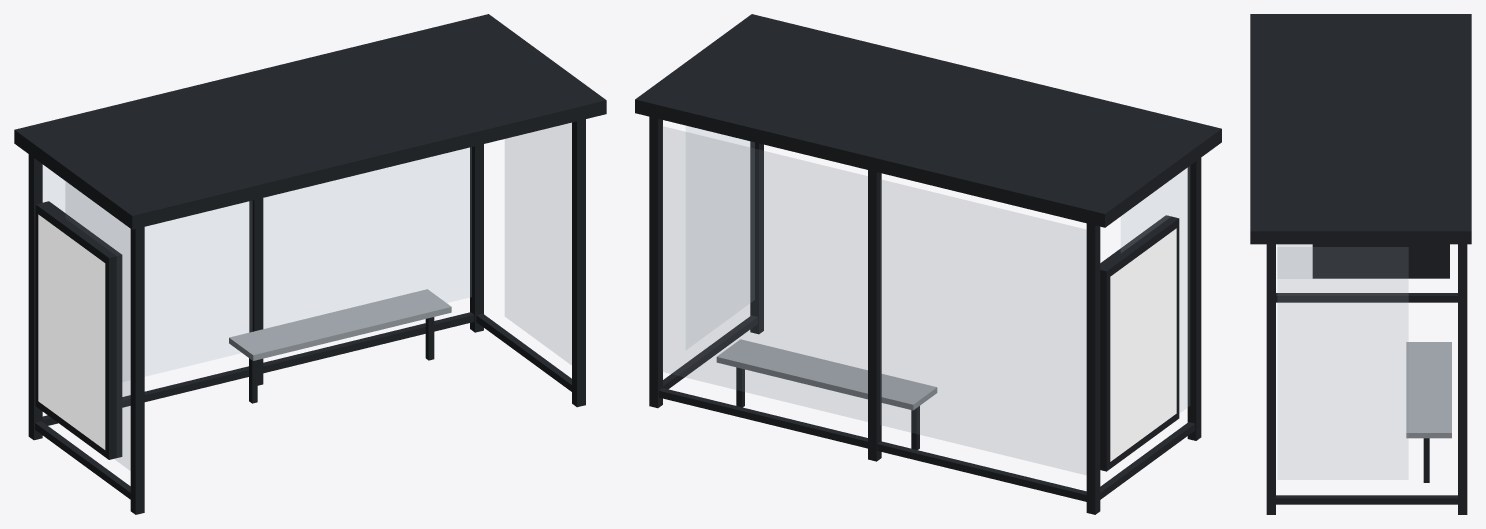
Rendered from prop_shelter.glb.
3 views of the same model, side by side, from view 1: azimuth 30°, elevation 25°; view 2: azimuth 150°, elevation 25°; view 3: azimuth 270°, elevation 25° (orthographic). The views are drawn at different scales.
Bounding box in the file's own units: 4.3 × 2.67 × 1.85.
